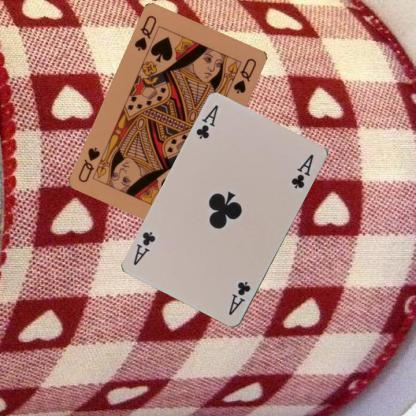Ac: (194, 102, 220, 141), (226, 279, 252, 317)
Qs: (132, 13, 158, 53)
